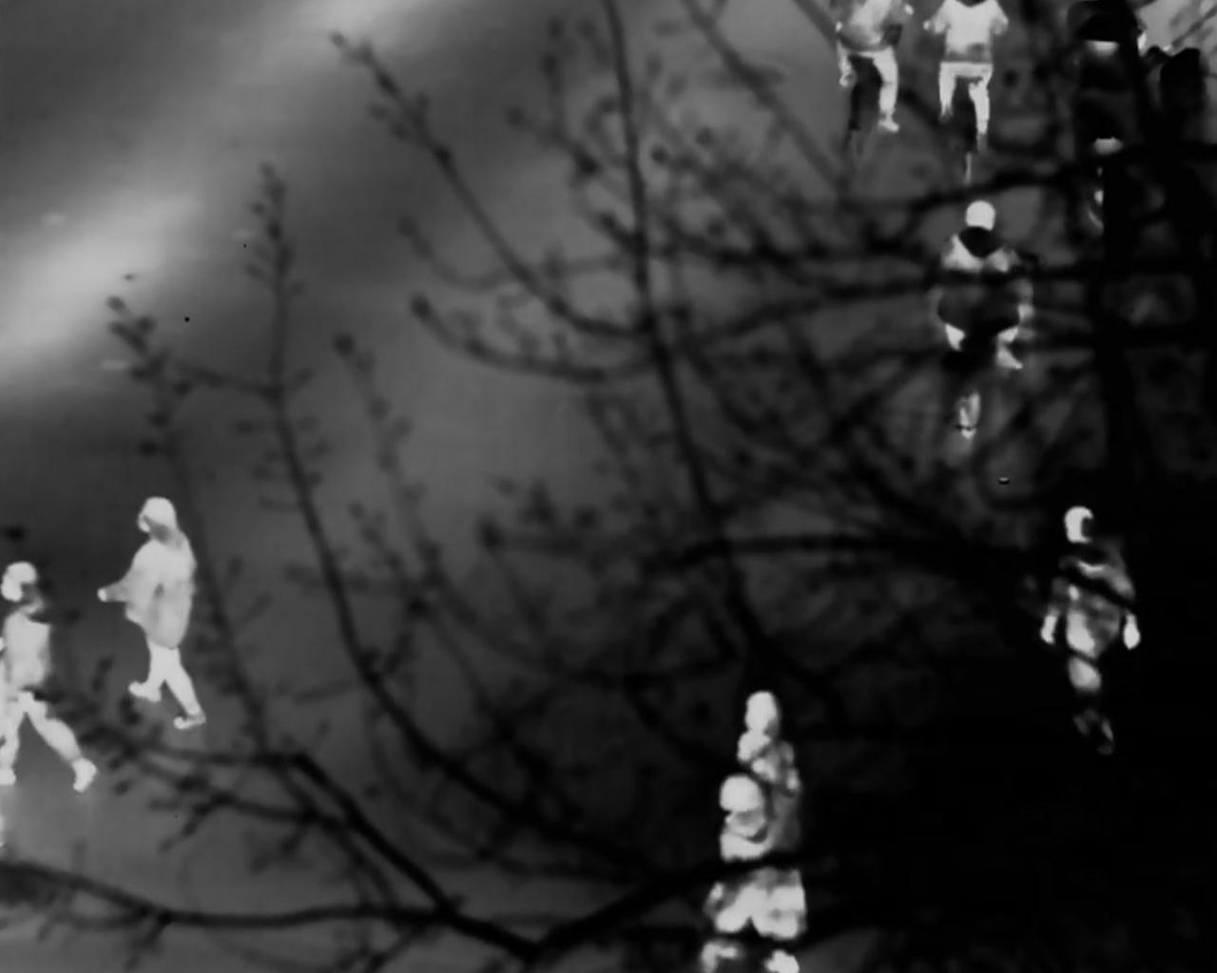person: (86, 496, 211, 712), (927, 209, 1040, 440), (717, 688, 806, 963), (6, 565, 100, 794), (1046, 493, 1128, 727)
